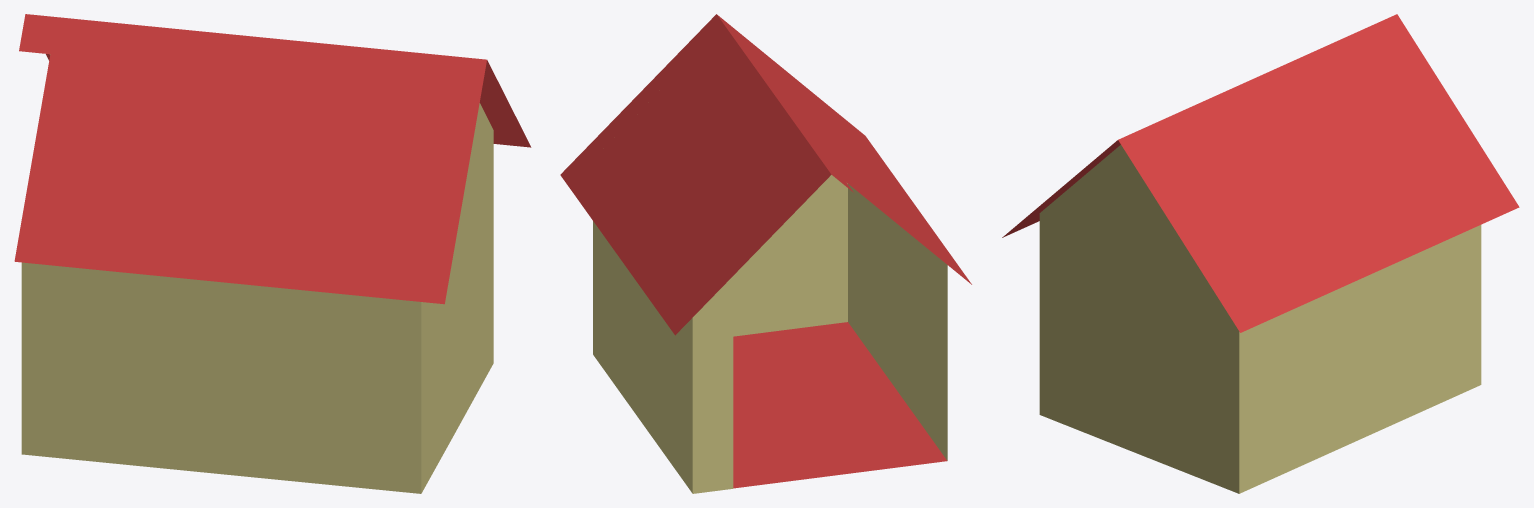
The picture shows the model from 3 angles, left to right: view 1: azimuth 30°, elevation 25°; view 2: azimuth 150°, elevation 25°; view 3: azimuth 270°, elevation 25°; orthographic projection. The views are drawn at different scales.
Size of the model in its own units: 13.9 by 14.36 by 9.83.
